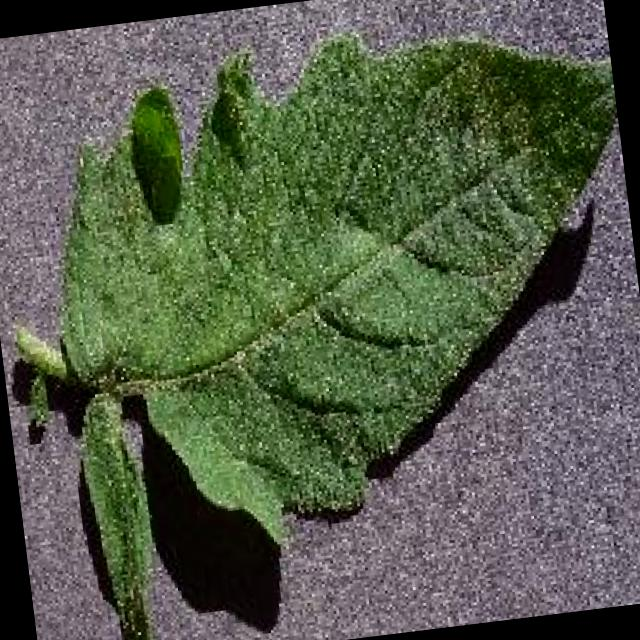healthy: (12, 36, 616, 640)
